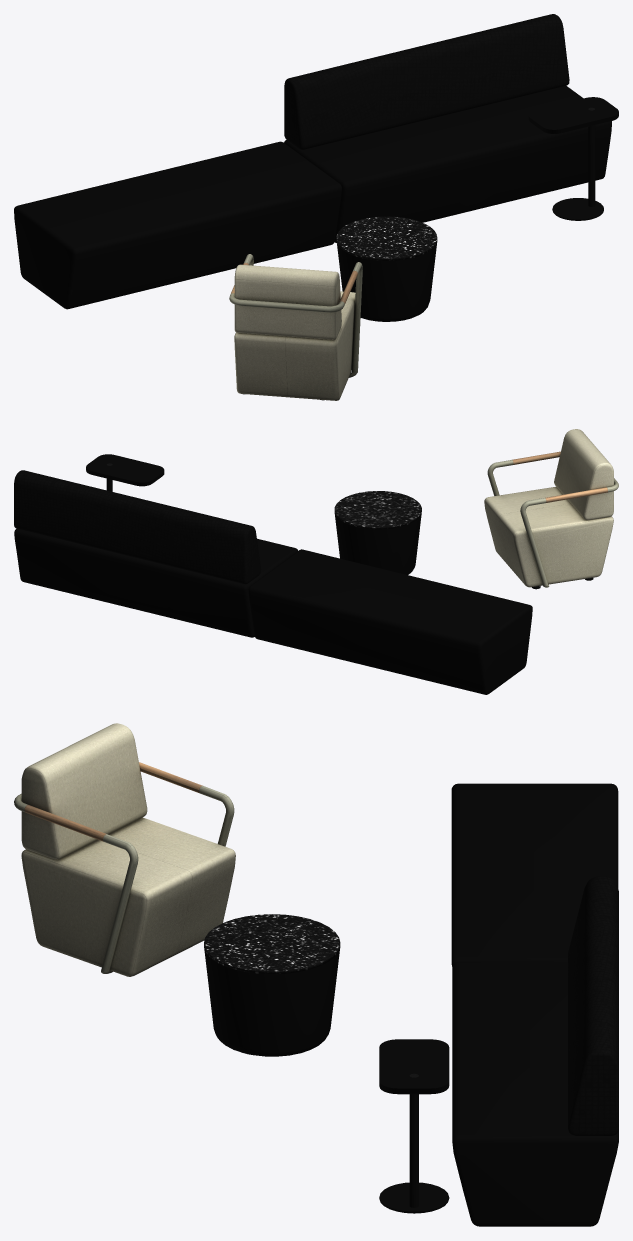
The model's file is SOL_MIX_2.glb.
The picture shows the model from 3 angles, top to bottom: view 1: azimuth 30°, elevation 25°; view 2: azimuth 150°, elevation 25°; view 3: azimuth 270°, elevation 25°; orthographic projection. The views are drawn at different scales.
Visible parts, largest first — view 1: SOL Setting 2 Bake001; view 2: SOL Setting 2 Bake001; view 3: SOL Setting 2 Bake001.
Part boxes in pixels (<box>): SOL Setting 2 Bake001: <box>14,14,618,400</box>; SOL Setting 2 Bake001: <box>14,429,618,694</box>; SOL Setting 2 Bake001: <box>14,723,618,1226</box>.
Size of the model in its own units: 3.61 by 0.8551 by 2.6.
1 material, 1 textured.
